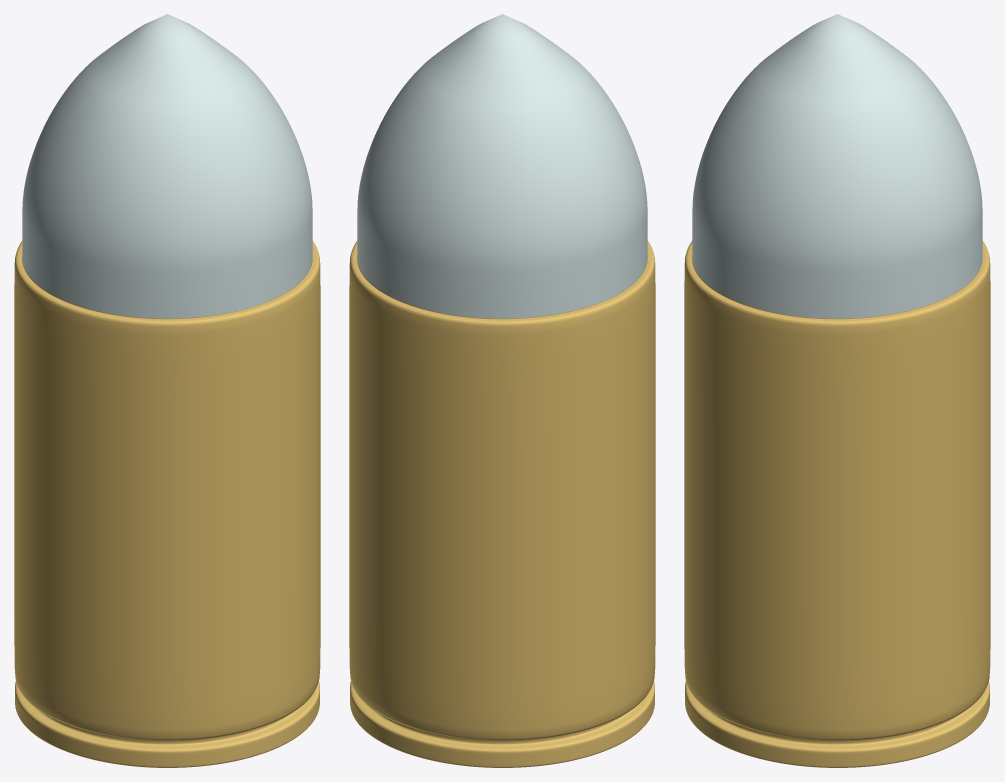
Rendered from uploads_files_2821668_bullet.fbx.
3 views of the same model, side by side, from view 1: azimuth 30°, elevation 25°; view 2: azimuth 150°, elevation 25°; view 3: azimuth 270°, elevation 25° (orthographic).
Parts seen in each view (by area): view 1: Cylinder; view 2: Cylinder; view 3: Cylinder.
Boxes of the visible parts, left/top/right/bottom form: Cylinder: left=14, top=14, right=320, bottom=767; Cylinder: left=349, top=14, right=655, bottom=767; Cylinder: left=684, top=14, right=990, bottom=767.
Bounding box in the file's own units: 199 × 495 × 199.
